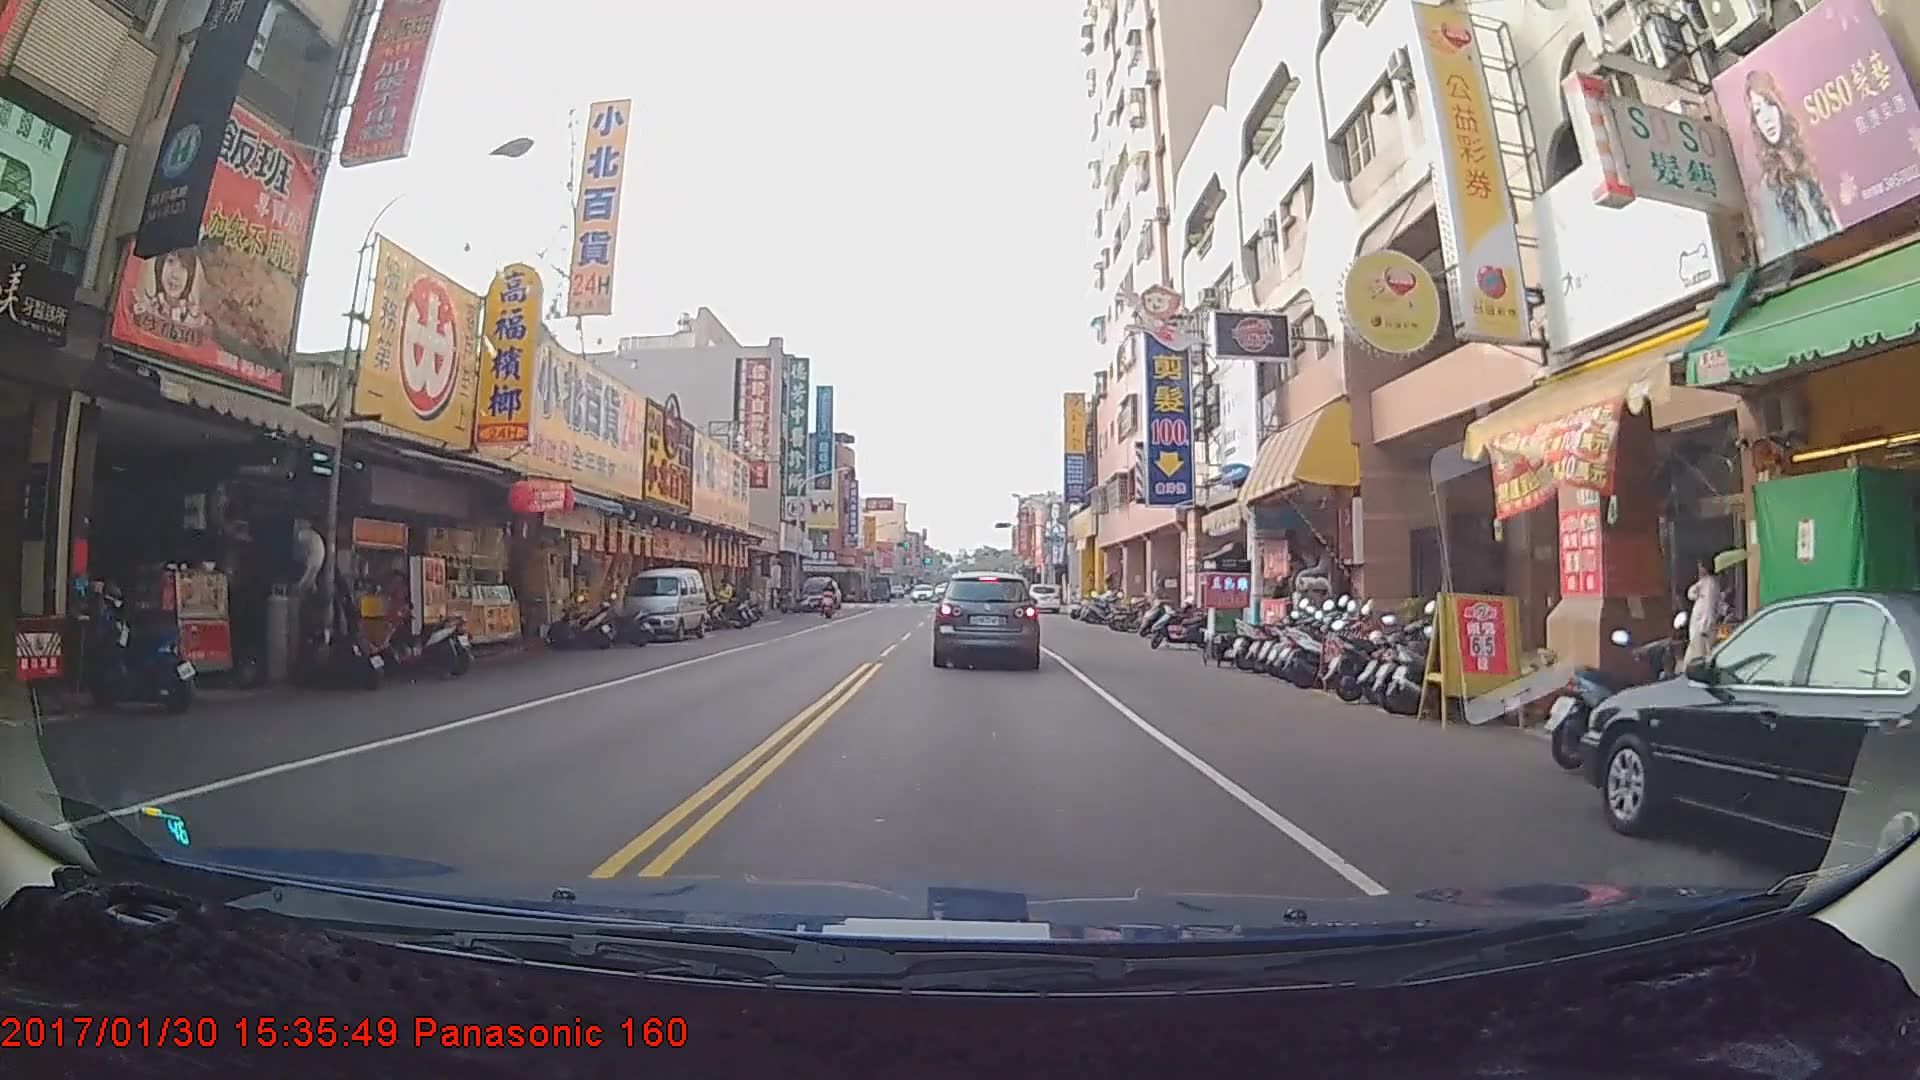pedestrian: (1679, 559, 1733, 694), (710, 574, 734, 625)
rider: (816, 573, 840, 617)
vehicle: (1580, 589, 1920, 921), (933, 571, 1041, 669), (616, 565, 706, 640), (801, 572, 837, 609), (1027, 583, 1061, 615)
